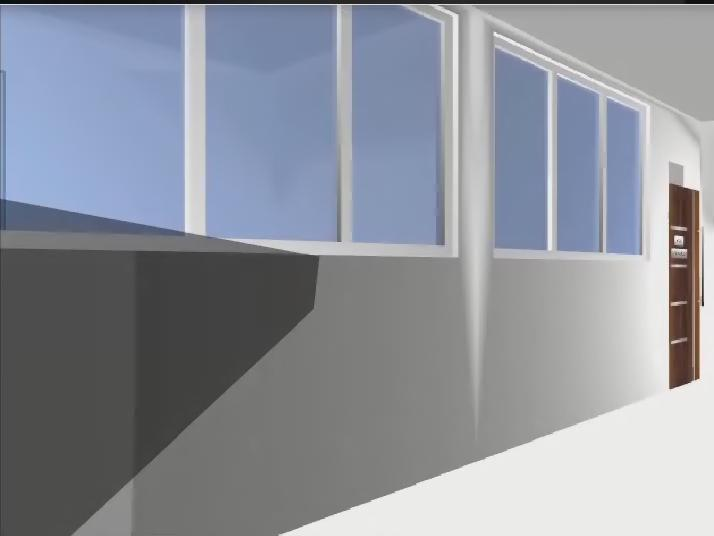door: (669, 184, 704, 389)
